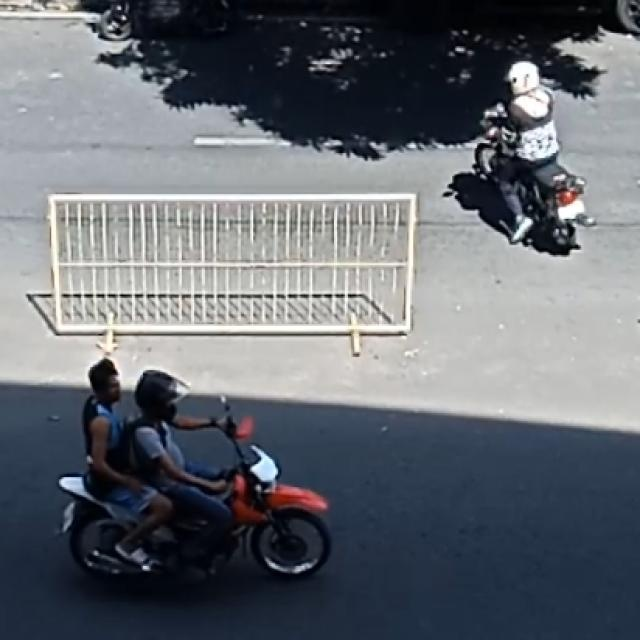Motorcycle: (64, 356, 331, 579), (473, 60, 592, 253)
